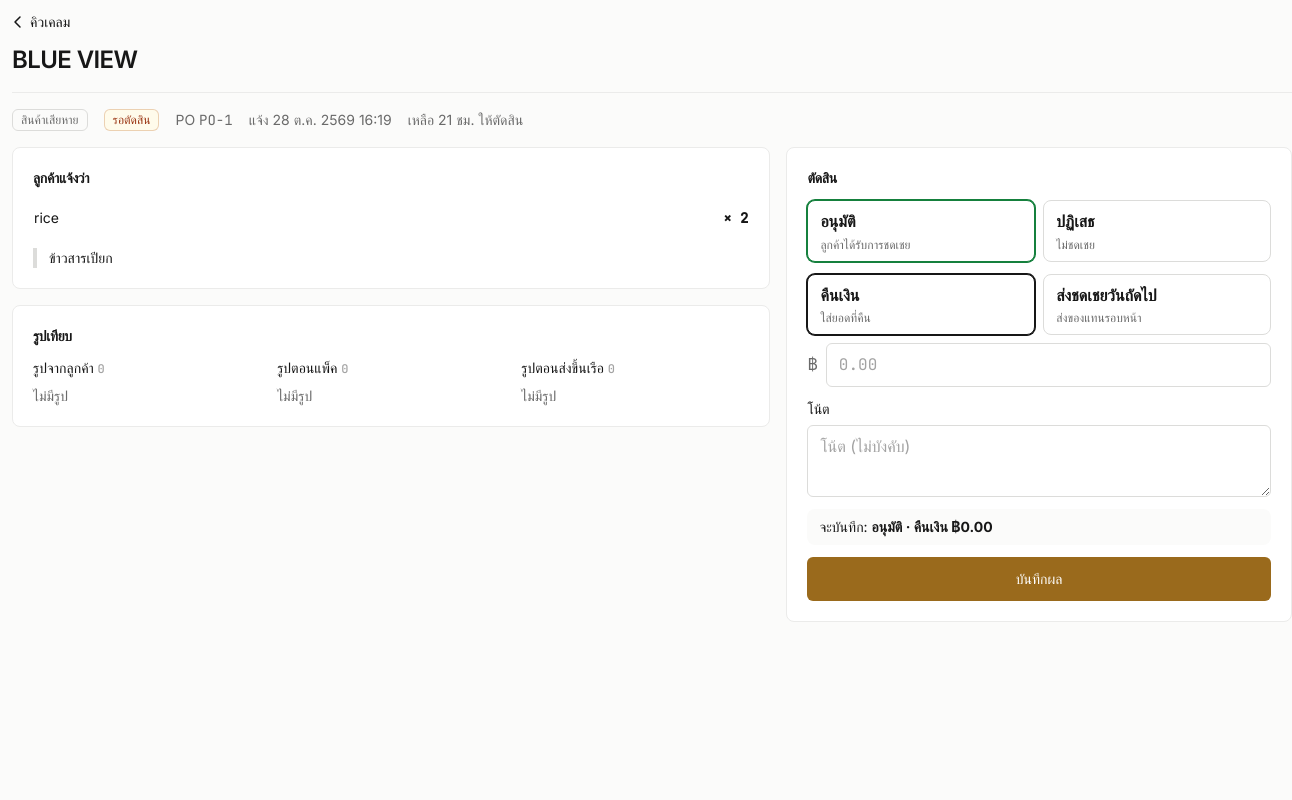
Test: a resolveClaim failure shows a Thai error and does not navigate
The width and height of the screenshot is (1292, 800).
expect the number field named "จำนวนเงินคืน" is shown: met, box [826,343,1271,387]
Click the button "บันทึกผล": x=1039, y=579 [807,557,1271,601]
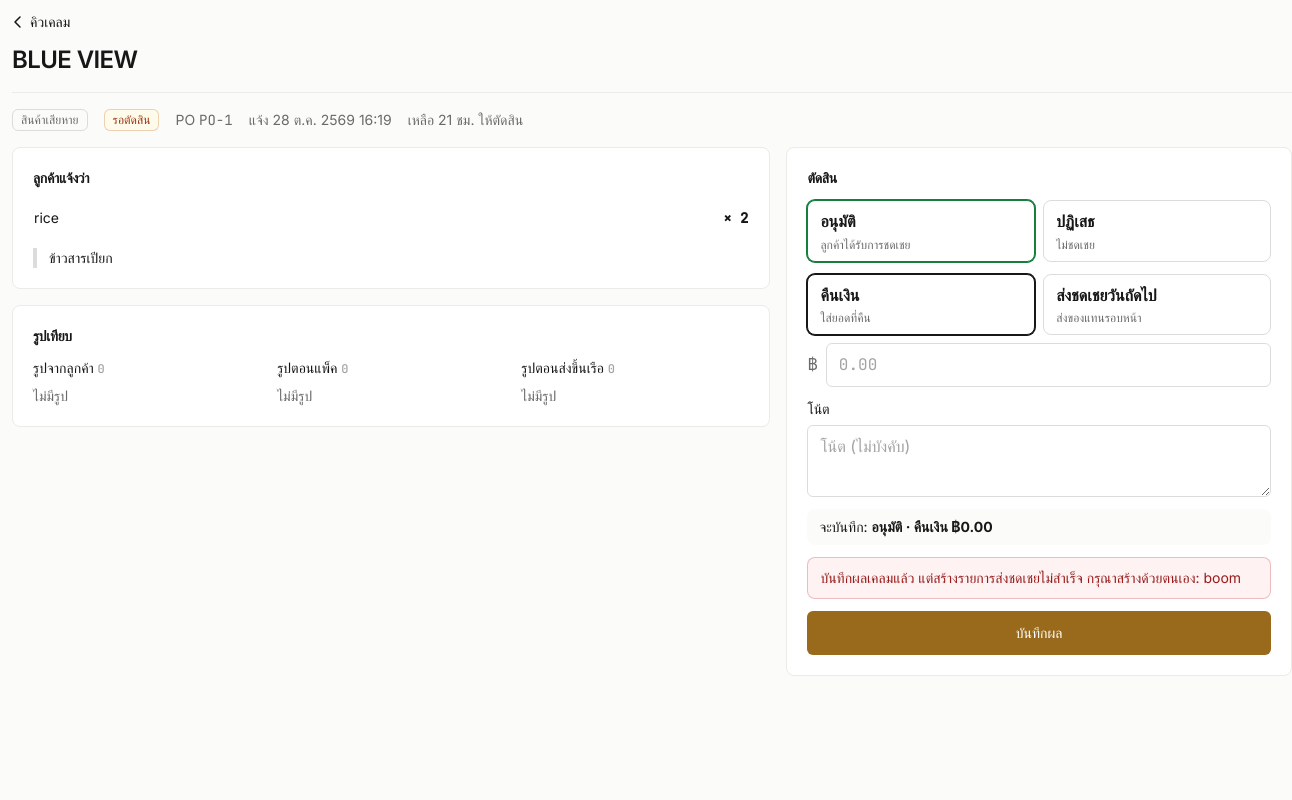
expect the button "บันทึกผล" is enabled: met, box [807,611,1271,655]
expect the text "สร้างรายการส่งชดเชยไม่สำเร็จ" is shown: met, box [820,569,1241,586]
